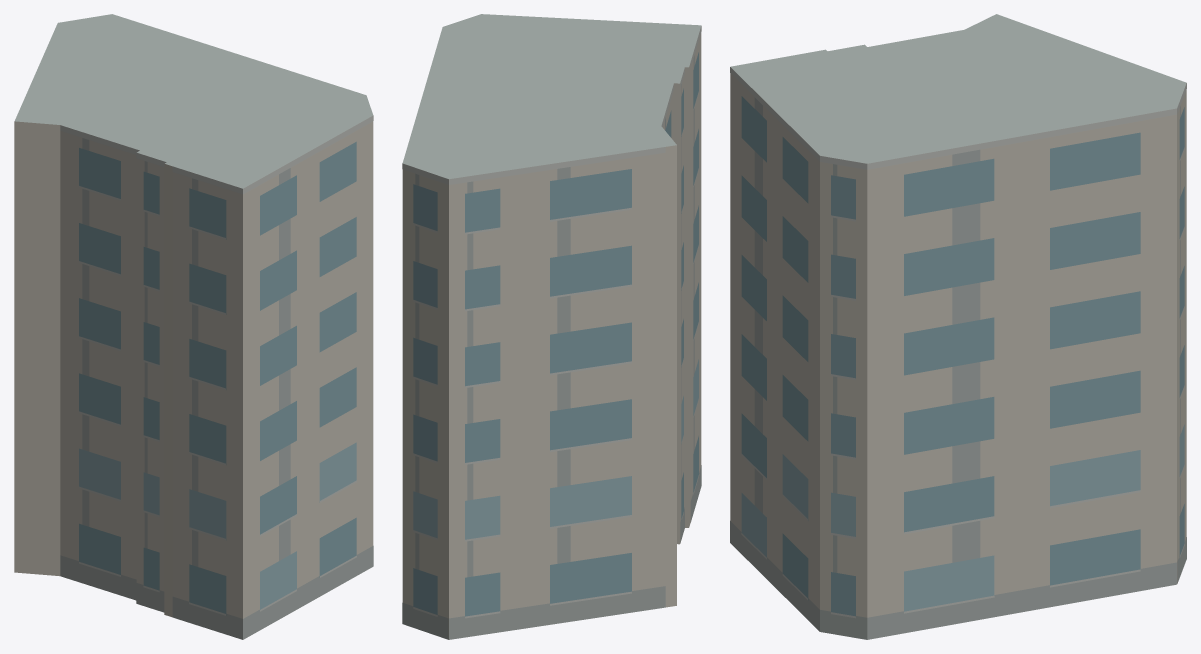
The model's file is survey-upis-32879386.glb.
3 views of the same model, side by side, from view 1: azimuth 30°, elevation 25°; view 2: azimuth 150°, elevation 25°; view 3: azimuth 270°, elevation 25° (orthographic). The views are drawn at different scales.
Visible parts, largest first — view 1: survey-upis-32879386.tmp; view 2: survey-upis-32879386.tmp; view 3: survey-upis-32879386.tmp.
Boxes of the visible parts, left/top/right/bottom form: survey-upis-32879386.tmp: left=14, top=14, right=373, bottom=639; survey-upis-32879386.tmp: left=402, top=14, right=701, bottom=639; survey-upis-32879386.tmp: left=730, top=14, right=1186, bottom=639.
Size of the model in its own units: 12.93 by 19.15 by 16.66.
